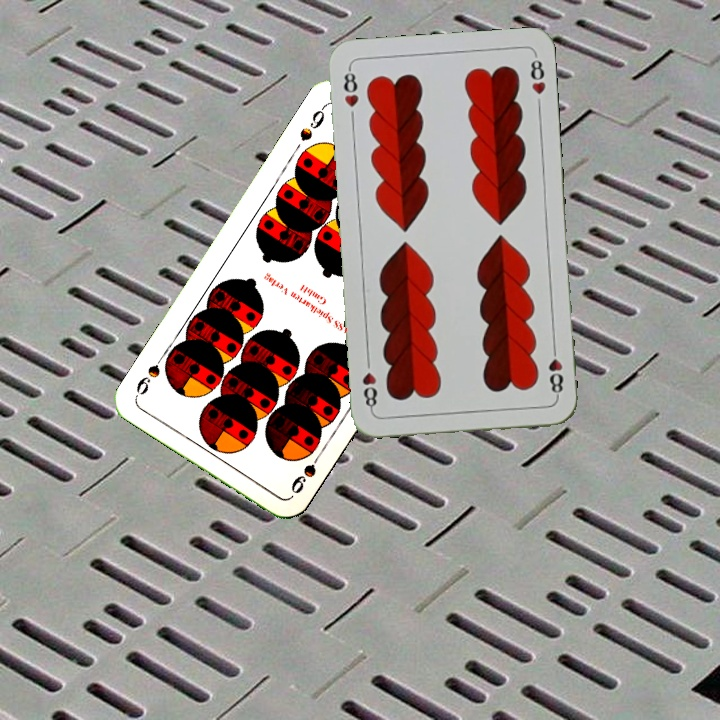H8: (544, 341, 566, 400), (339, 64, 362, 110)
S9: (286, 446, 326, 497), (295, 101, 328, 144)
